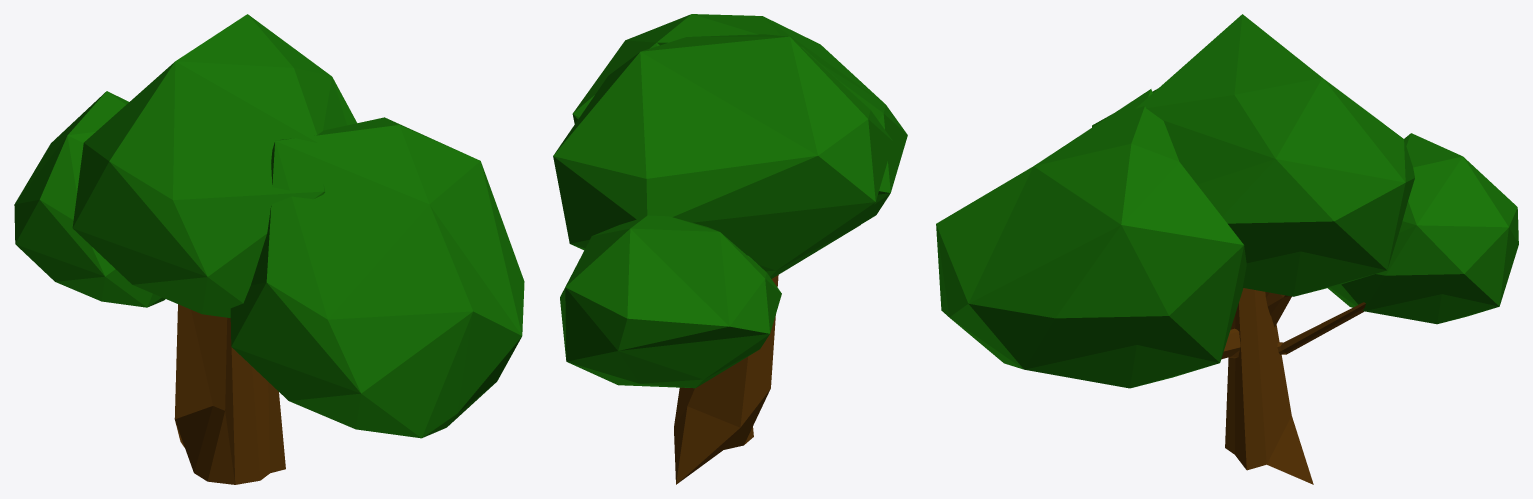
Rendered from Bush#14.fbx.
The picture shows the model from 3 angles, left to right: view 1: azimuth 30°, elevation 25°; view 2: azimuth 150°, elevation 25°; view 3: azimuth 270°, elevation 25°; orthographic projection. The views are drawn at different scales.
Visible parts, largest first — view 1: Bush#14; view 2: Bush#14; view 3: Bush#14.
Part boxes in pixels (x1,y1,x2,y2): Bush#14: [14, 14, 524, 484]; Bush#14: [553, 14, 907, 484]; Bush#14: [936, 14, 1518, 484].
Bounding box in the file's own units: 138 × 175 × 214.
